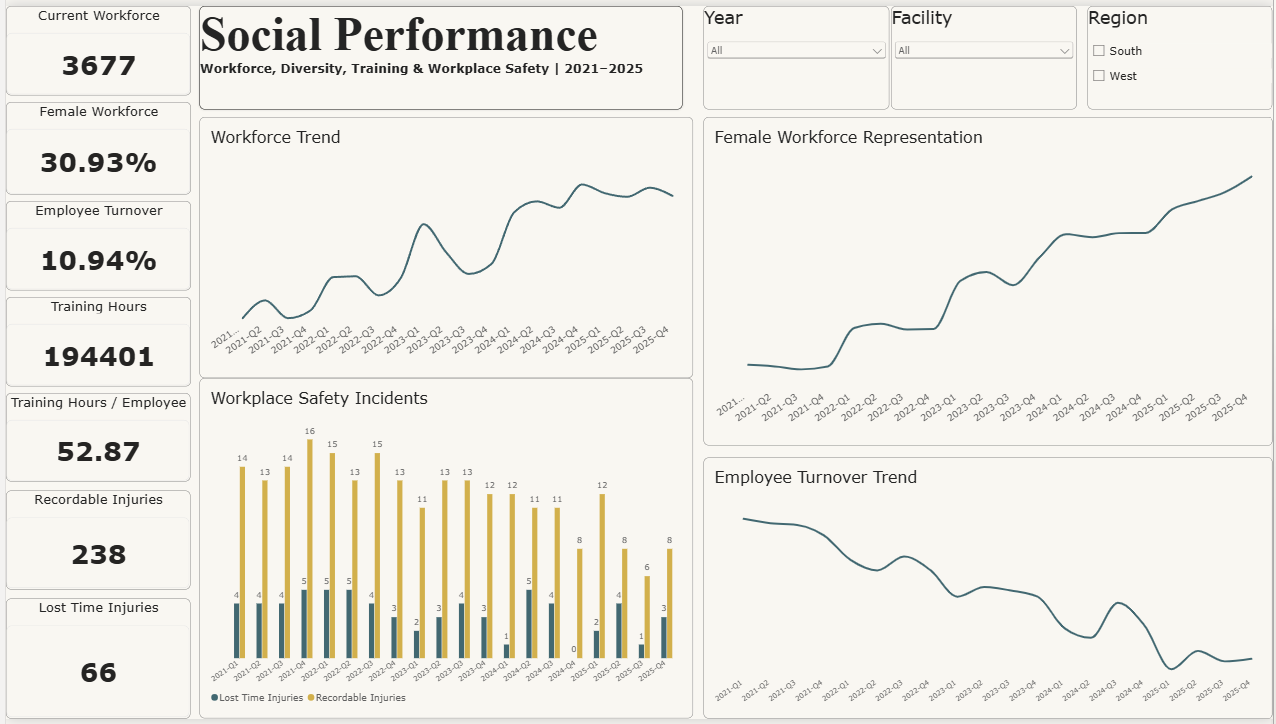

The page's visual inventory and layout, read from the dashboard file:
{"tool":"powerbi","page":{"name":"Social","canvas":[1920,1080],"ordinal":2},"visuals":[{"type":"cardVisual","title":"Current Workforce","fields":{"Data":["Measure.Latest Employee Count"]},"box":[0,0,280,135],"z":0},{"type":"cardVisual","title":"Training Hours","fields":{"Data":["Measure.Total Training Hours"]},"box":[0,440.6,280,135],"z":1},{"type":"cardVisual","title":"Lost Time Injuries","fields":{"Data":["Measure.Lost Time Injuries"]},"box":[0,897.2,279.4,181.7],"z":2},{"type":"cardVisual","title":"Recordable Injuries","fields":{"Data":["Measure.Recordable Injuries"]},"box":[0,733.6,279.4,149.9],"z":3},{"type":"cardVisual","title":"Female Workforce","fields":{"Data":["Measure.Female Workforce %"]},"box":[0,145.4,280,140],"z":4},{"type":"cardVisual","title":"Employee Turnover","fields":{"Data":["Measure.Employee Turnover %"]},"box":[0,295.3,280,135],"z":5},{"type":"slicer","title":"Year","fields":{"Values":["DimYear.Year"]},"box":[1056.2,0,281.6,156.7],"z":6},{"type":"slicer","title":"Facility","fields":{"Values":["Facilities.Facility"]},"box":[1340.1,0,281.6,156.7],"z":9},{"type":"slicer","title":"Region","fields":{"Values":["Facilities.Region"]},"box":[1637.6,0,281.6,156.7],"z":10},{"type":"lineChart","title":"Workforce Trend","fields":{"Category":["Social.YearQuarter"],"Y":["Measure.Latest Employee Count"]},"box":[293,168.1,747.3,395.2],"z":11},{"type":"lineChart","title":"Female Workforce Representation","fields":{"Category":["Social.YearQuarter"],"Y":["Measure.Female Workforce %"]},"box":[1056.2,168.1,863.1,497.4],"z":12},{"type":"lineChart","title":"Employee Turnover Trend","fields":{"Category":["Social.YearQuarter"],"Y":["Measure.Employee Turnover %"]},"box":[1056.2,683.7,863.1,395.2],"z":13},{"type":"clusteredColumnChart","title":"Workplace Safety Incidents","fields":{"Category":["Social.YearQuarter"],"Y":["Measure.Lost Time Injuries","Measure.Recordable Injuries"]},"box":[293,563.3,747.3,515.6],"z":14},{"type":"textbox","box":[293,0,731.4,156.7],"z":15},{"type":"cardVisual","title":"Training Hours / Employee","fields":{"Data":["Measure.Training Hours per Employee"]},"box":[0,586,279.4,134],"z":16}]}

Visuals, with their boxes in screenshot pixels (x1, y1, x2, y2), scaled from the page's 1920x1080 canvas onto the 1276x724 screenshot:
"Current Workforce" cardVisual: region(0, 0, 186, 90)
"Training Hours" cardVisual: region(0, 295, 186, 386)
"Lost Time Injuries" cardVisual: region(0, 601, 186, 723)
"Recordable Injuries" cardVisual: region(0, 492, 186, 592)
"Female Workforce" cardVisual: region(0, 97, 186, 191)
"Employee Turnover" cardVisual: region(0, 198, 186, 288)
"Year" slicer: region(702, 0, 889, 105)
"Facility" slicer: region(891, 0, 1078, 105)
"Region" slicer: region(1088, 0, 1275, 105)
"Workforce Trend" lineChart: region(195, 113, 691, 378)
"Female Workforce Representation" lineChart: region(702, 113, 1275, 446)
"Employee Turnover Trend" lineChart: region(702, 458, 1275, 723)
"Workplace Safety Incidents" clusteredColumnChart: region(195, 378, 691, 723)
textbox: region(195, 0, 681, 105)
"Training Hours / Employee" cardVisual: region(0, 393, 186, 483)
